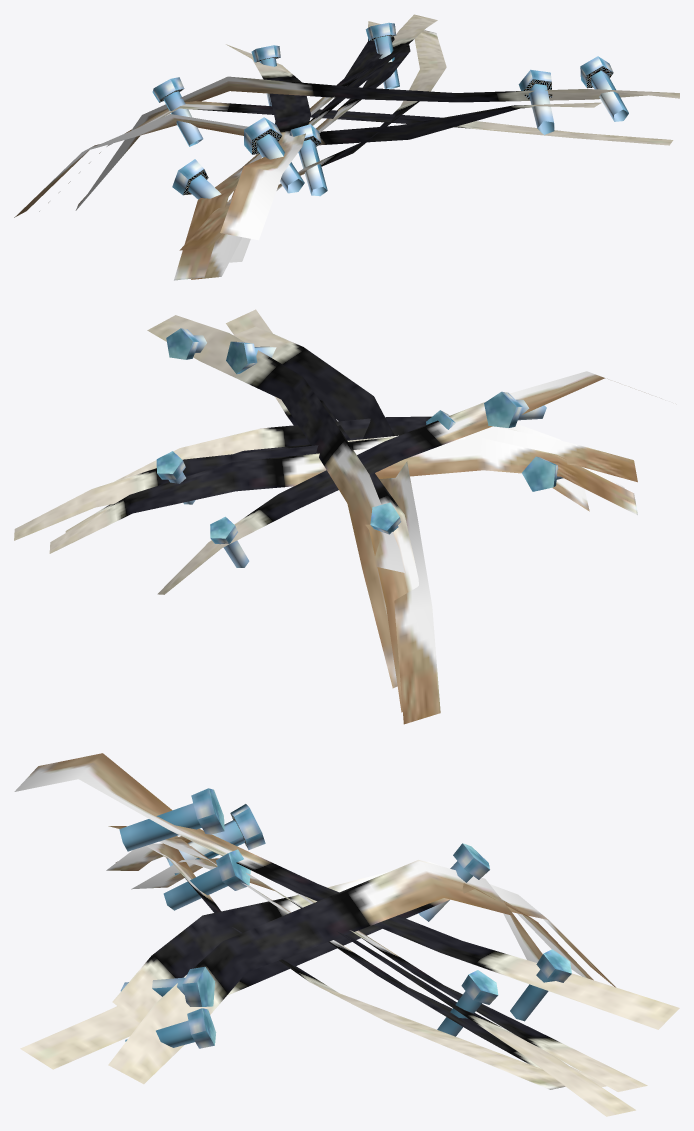
3 renders of one model, top to bottom at view 1: azimuth 30°, elevation 25°; view 2: azimuth 150°, elevation 25°; view 3: azimuth 270°, elevation 25°, orthographic. The views are drawn at different scales.
Parts seen in each view (by area): view 1: Object41; view 2: Object41; view 3: Object41.
Boxes of the visible parts, x1=… form: Object41: x1=14, y1=14, x2=679, y2=280; Object41: x1=14, y1=309, x2=665, y2=724; Object41: x1=14, y1=753, x2=679, y2=1116.
Size of the model in its own units: 47884 by 18207 by 44662.
